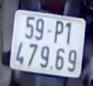1: (64, 18, 73, 46)
4: (15, 41, 26, 68)
5: (24, 14, 35, 41)
6: (55, 46, 65, 73)
7: (27, 41, 39, 70)
9: (66, 46, 77, 75), (39, 44, 51, 70), (35, 17, 46, 44)
P: (51, 19, 64, 45)
